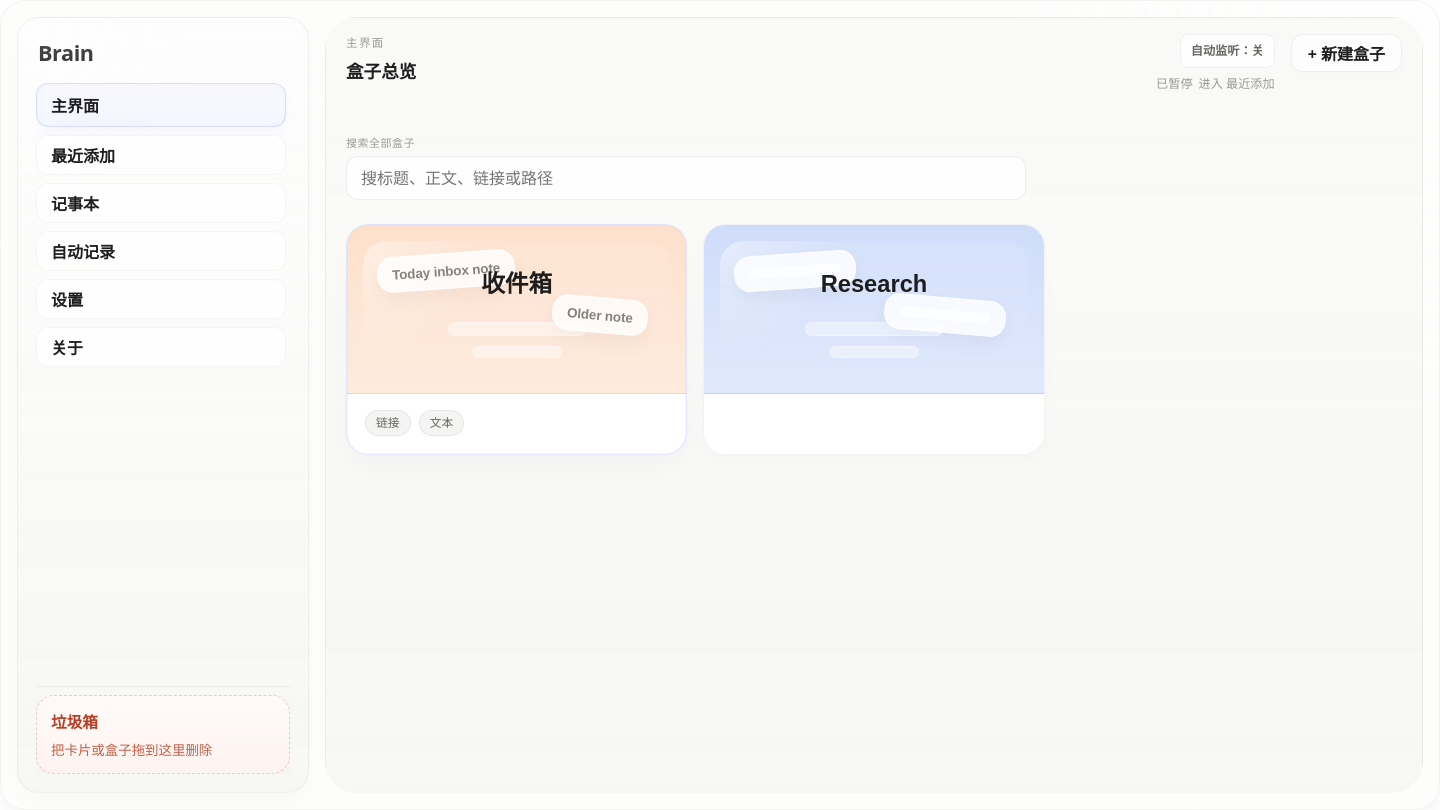
Test: AppShell › keeps today's uncategorized items only in recent additions
This screenshot has width=1440, height=810.
Click the button with aria-label "打开最近添加" at (161, 155), box top-left (36, 135), bottom-right (286, 175)
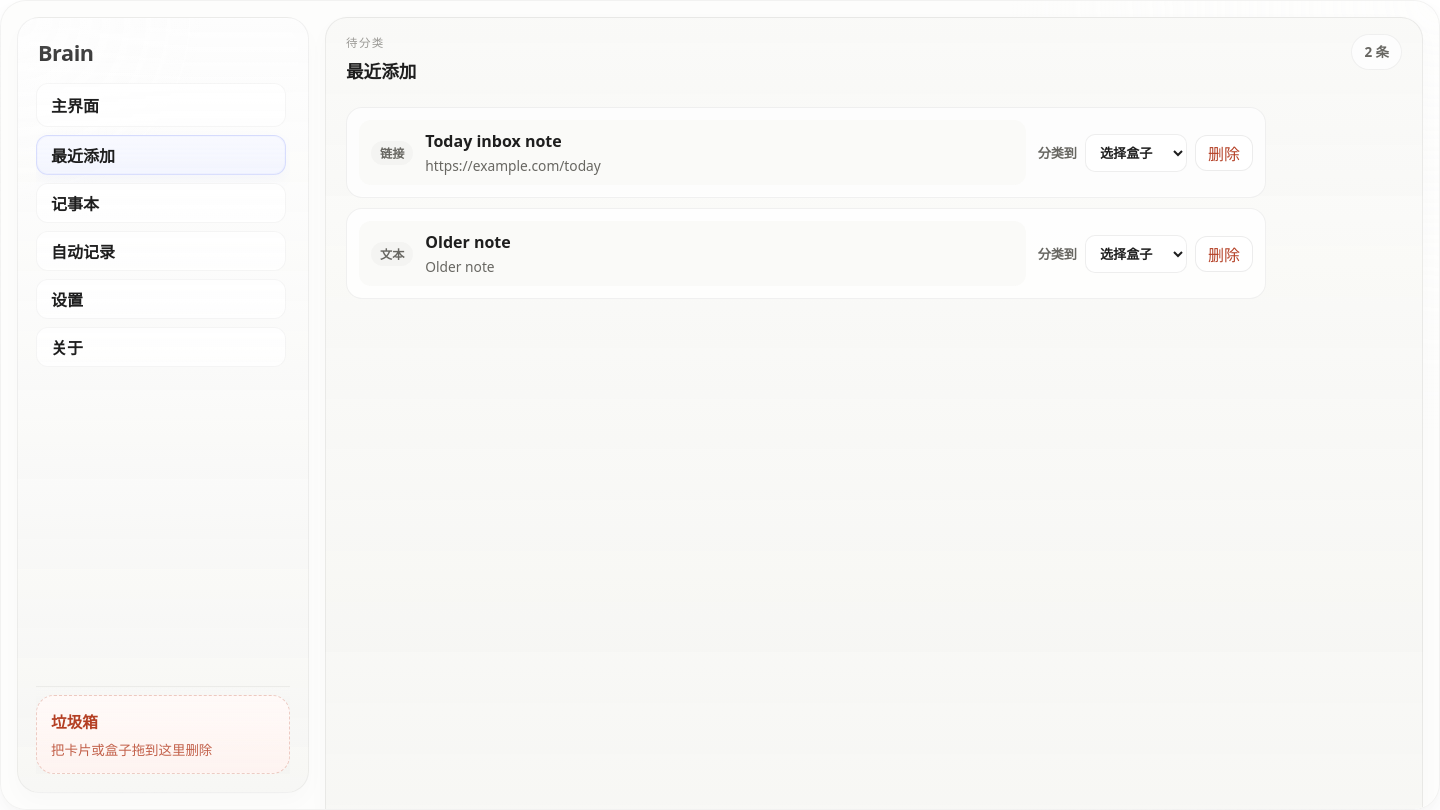
Check: the button with aria-label "查看最近添加 Today inbox note" is shown, box top-left (359, 120), bottom-right (1026, 185)
